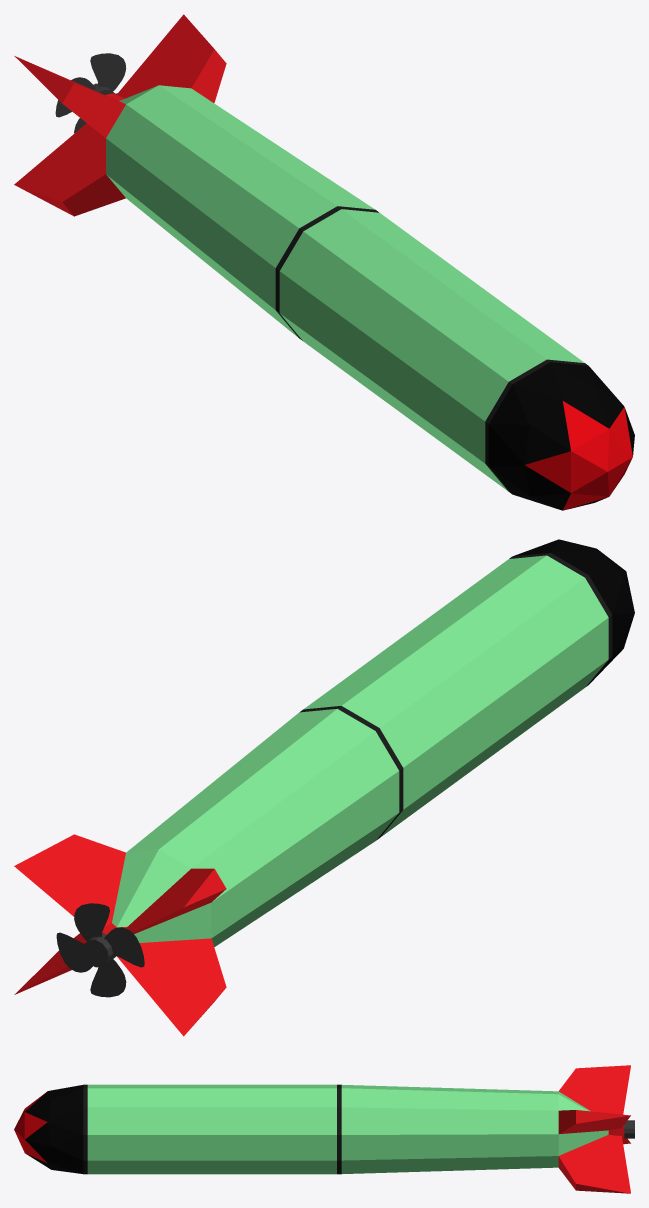
The model's file is torpedo.glb.
3 views of the same model, one above another, from view 1: azimuth 30°, elevation 25°; view 2: azimuth 150°, elevation 25°; view 3: azimuth 270°, elevation 25° (orthographic). The views are drawn at different scales.
Visible parts, largest first — view 1: Icosphere, Icosphere.002; view 2: Icosphere, Icosphere.002; view 3: Icosphere.
Part boxes in pixels (bbox=[...]): Icosphere: bbox=[14, 14, 634, 510]; Icosphere.002: bbox=[55, 53, 126, 133]; Icosphere: bbox=[14, 539, 634, 1036]; Icosphere.002: bbox=[56, 903, 144, 997]; Icosphere: bbox=[14, 1065, 630, 1193].
Size of the model in its own units: 2.61 by 2 by 13.64.
